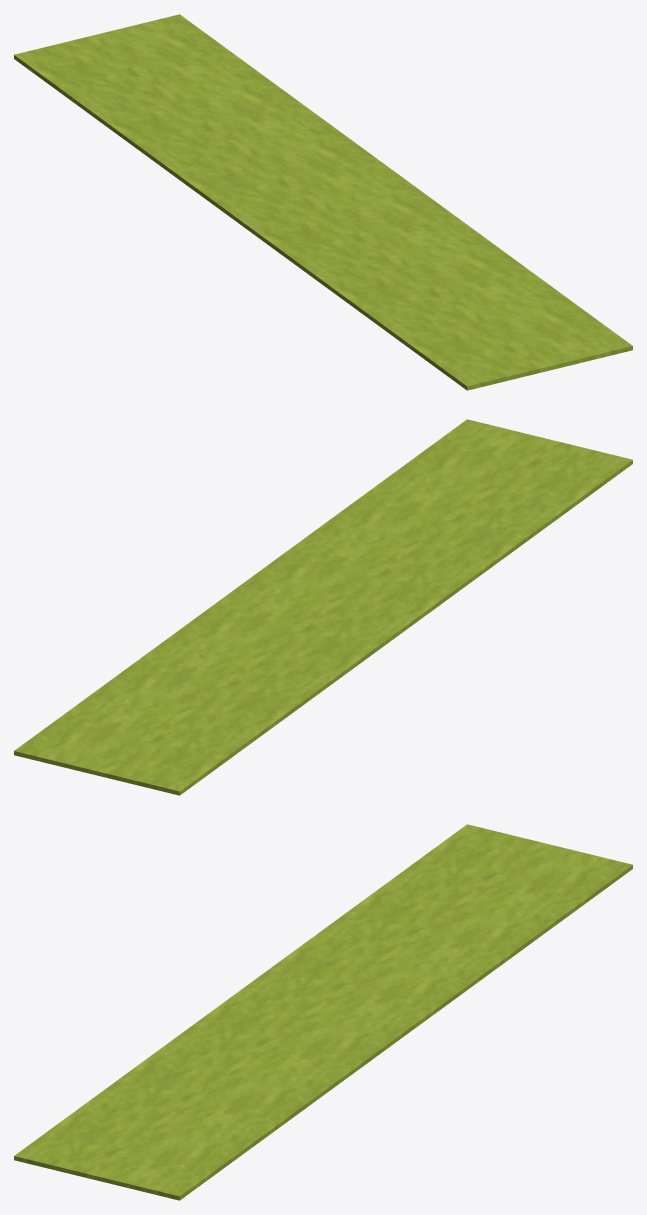
File: TempleTile_Q.fbx
3 renders of one model, top to bottom at view 1: azimuth 30°, elevation 25°; view 2: azimuth 150°, elevation 25°; view 3: azimuth 330°, elevation 25°, orthographic.
Parts seen in each view (by area): view 1: TempleTile_Q; view 2: TempleTile_Q; view 3: TempleTile_Q.
Part boxes in pixels (<box>): TempleTile_Q: <box>14,14,632,390</box>; TempleTile_Q: <box>14,419,632,795</box>; TempleTile_Q: <box>14,824,632,1200</box>.
Size of the model in its own units: 634 by 15.42 by 3003.
1 material, 1 textured.
